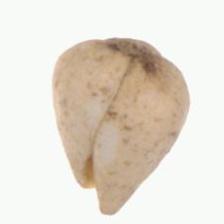L1: (75, 152, 111, 215), (99, 34, 158, 66)
L2: (51, 36, 190, 215)
